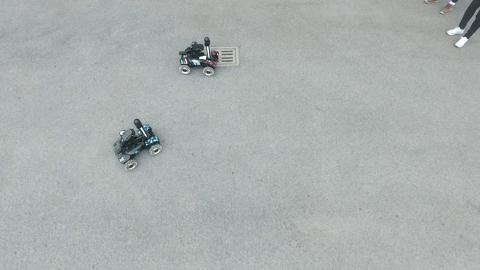chariot: (112, 119, 164, 174), (177, 37, 220, 78)
